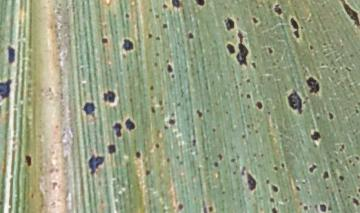tarspot: (234, 28, 250, 68), (338, 1, 360, 28), (285, 89, 303, 114), (86, 153, 106, 174), (304, 75, 320, 95), (245, 171, 258, 192), (120, 35, 135, 53), (1, 77, 12, 101), (101, 88, 116, 105), (110, 121, 123, 139), (82, 101, 96, 117), (222, 15, 236, 31), (5, 45, 16, 64), (124, 117, 137, 133), (224, 41, 236, 55), (271, 2, 283, 16), (287, 16, 299, 30), (309, 128, 321, 142), (106, 143, 118, 155), (23, 154, 32, 167), (268, 182, 278, 193), (254, 100, 264, 111), (349, 196, 360, 206), (169, 1, 182, 9), (191, 1, 208, 7), (308, 163, 318, 173), (318, 202, 327, 213), (292, 28, 300, 40), (321, 169, 329, 181), (165, 63, 174, 73), (195, 108, 204, 118), (148, 104, 157, 113), (100, 36, 109, 45), (186, 31, 195, 40), (250, 15, 259, 24), (326, 110, 334, 120), (167, 117, 176, 125), (249, 61, 257, 70), (144, 168, 152, 176), (206, 205, 214, 213), (271, 164, 279, 172), (162, 123, 169, 132), (154, 129, 161, 138), (122, 11, 131, 18), (279, 161, 286, 170), (191, 137, 197, 147), (240, 165, 246, 175), (134, 150, 141, 158), (176, 202, 183, 210), (127, 96, 134, 104), (121, 51, 128, 59), (160, 22, 168, 29), (240, 132, 247, 140), (268, 195, 275, 203), (244, 91, 251, 99), (266, 46, 273, 54), (293, 184, 301, 191), (337, 174, 344, 182), (51, 181, 57, 190), (264, 176, 270, 185), (178, 159, 185, 166), (148, 84, 155, 91), (47, 167, 54, 174), (153, 34, 160, 41), (175, 101, 182, 108), (212, 160, 219, 167), (229, 156, 236, 163), (270, 206, 277, 213), (245, 103, 252, 110), (157, 98, 163, 106), (216, 152, 222, 160), (308, 43, 314, 51), (343, 66, 351, 72), (353, 107, 359, 115), (353, 155, 359, 163), (169, 111, 176, 117), (29, 191, 35, 198), (170, 72, 176, 79), (146, 31, 152, 38), (147, 6, 153, 13), (161, 3, 167, 10), (210, 126, 216, 133), (231, 169, 237, 176), (204, 107, 210, 114), (245, 77, 251, 84), (302, 204, 308, 211), (327, 204, 333, 211), (282, 197, 289, 203), (96, 179, 102, 186), (153, 142, 159, 148), (165, 156, 171, 162), (173, 154, 179, 160), (54, 9, 60, 15), (111, 12, 117, 18), (244, 122, 250, 128), (253, 128, 259, 134), (271, 61, 277, 67), (339, 143, 345, 149), (312, 142, 318, 148), (354, 173, 360, 179), (149, 93, 154, 100), (47, 85, 52, 92), (54, 166, 59, 173), (53, 23, 58, 30), (252, 151, 257, 158), (259, 151, 264, 158), (266, 109, 271, 116), (234, 82, 239, 89), (307, 17, 312, 24), (355, 100, 360, 107), (297, 199, 302, 206), (313, 202, 318, 209), (324, 184, 329, 191), (347, 82, 352, 89), (267, 3, 272, 10), (99, 197, 104, 204), (158, 106, 164, 111), (57, 1, 62, 7), (153, 61, 158, 67), (154, 51, 160, 56), (154, 13, 159, 19), (203, 154, 208, 160), (247, 129, 252, 135), (224, 109, 229, 115), (234, 15, 239, 21), (274, 57, 280, 62), (299, 24, 304, 30), (318, 62, 324, 67), (315, 114, 320, 120), (348, 52, 353, 58), (334, 157, 339, 163), (347, 158, 352, 164), (320, 2, 325, 8), (239, 91, 243, 98), (238, 80, 242, 87), (303, 95, 310, 99), (356, 186, 360, 193), (54, 123, 59, 128), (113, 29, 118, 34), (164, 57, 169, 62), (220, 189, 225, 194), (249, 122, 254, 127), (230, 33, 235, 38), (336, 188, 341, 193), (333, 68, 338, 73), (306, 189, 311, 194), (302, 99, 306, 105), (1, 200, 4, 207), (253, 53, 257, 58), (321, 41, 325, 46), (346, 194, 351, 198), (308, 204, 312, 208)
